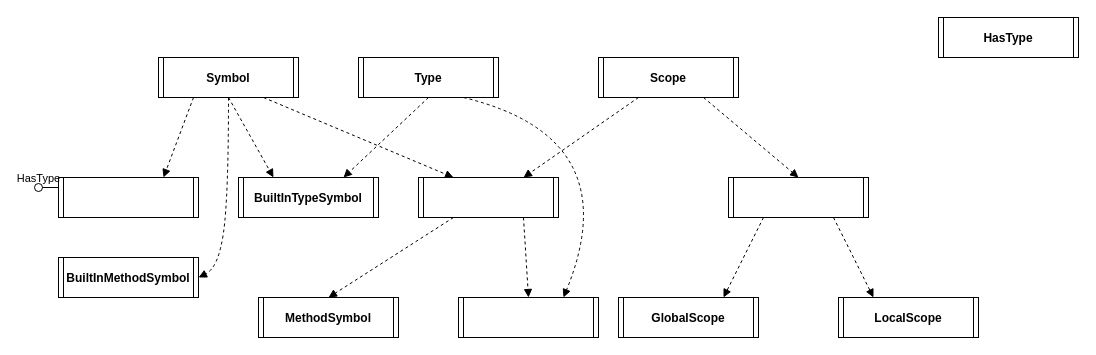
Some shapes in this 1096 by 355 pixel diagram are drawn without their labels. The box of each missing label's shape, as (x1, y1, x2, y2) in pixels:
BaseScope: (728, 176, 868, 218)
StructSymbol: (458, 296, 598, 338)
SymbolWithScope: (418, 176, 558, 218)
VariableSymbol: (58, 176, 198, 218)
